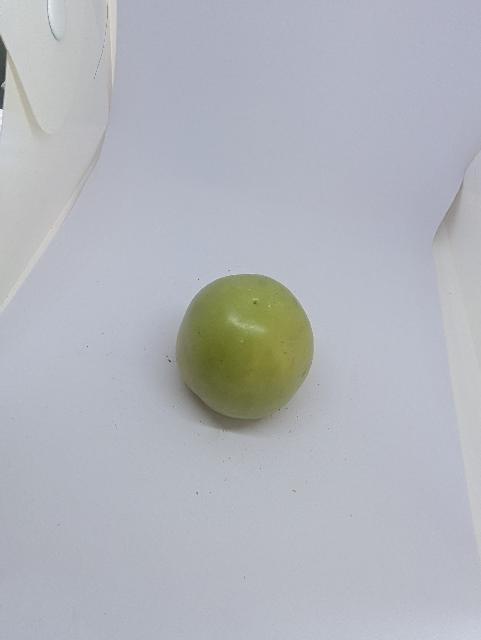green: (163, 260, 330, 435)
